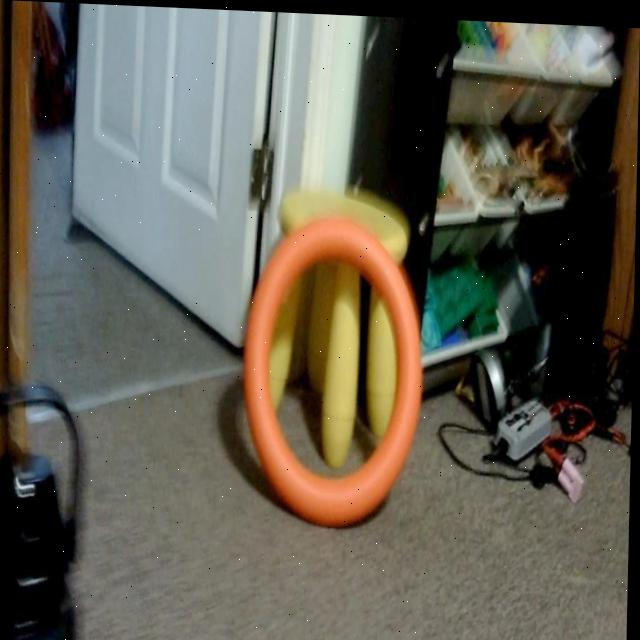note: (241, 208, 428, 531)
